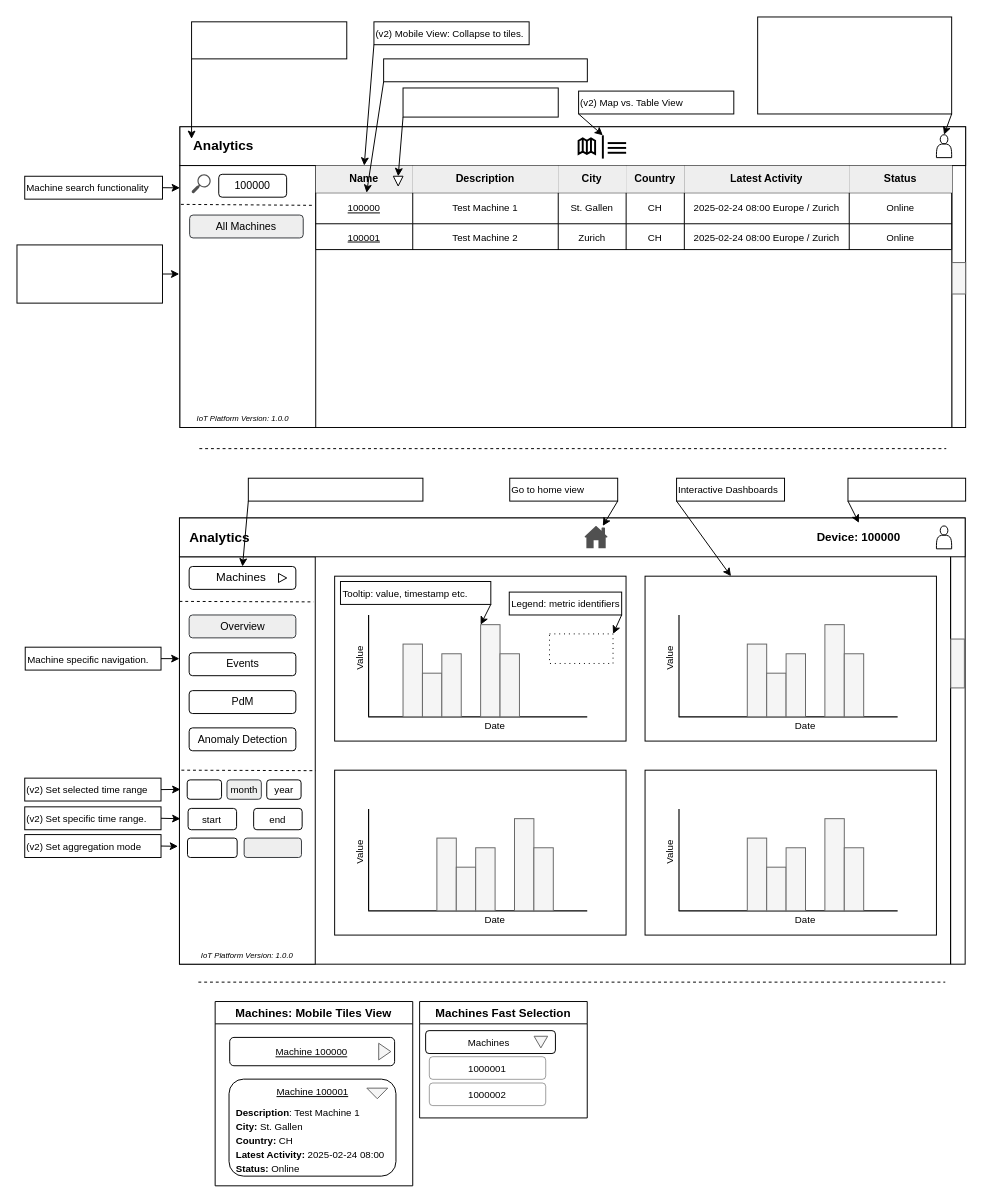
The diagram is 983 pixels wide and 1203 high, and some of its shapes have lost their labels. The centre of each missing label's shape, as x and y in pixels:
(v2) Can be extended to further page navigation buttons (manually collapsable).: point (89, 273)
(v2) Fast machine selection dropdown: point (335, 489)
(v2) Settings User management admin page. Set language Change password: point (854, 65)
Company brand (on click => go to home view): point (269, 40)
daily: point (212, 847)
Select specific machine (go to machine view).: point (485, 70)
Selected machine: point (906, 489)
Sort column which can be applied to any column.: point (480, 102)
vibration temperature: point (581, 648)
week: point (204, 789)
weekly: point (272, 847)
